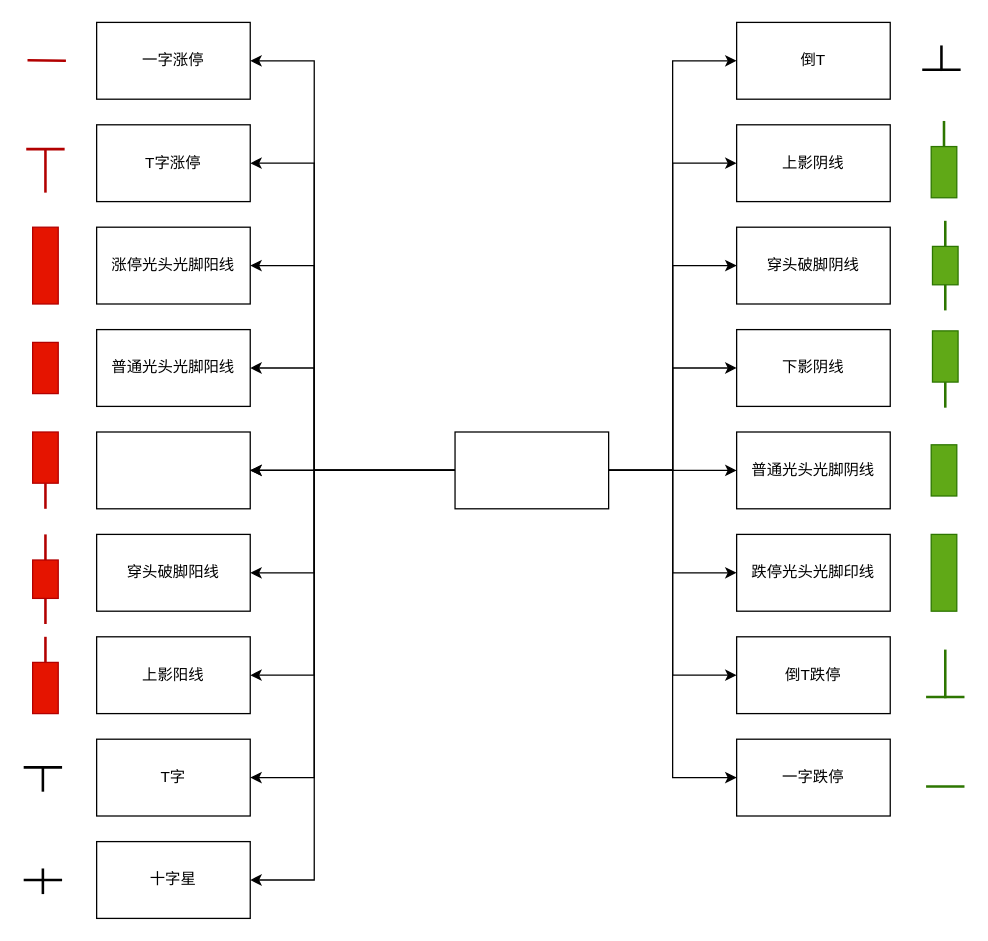
The diagram is 988 pixels wide and 941 high, and some of its shapes have lost their labels. Each missing label, with the centre of its shape:
"K线形态" goes at [531,470].
"下影阳线" goes at [172,470].
